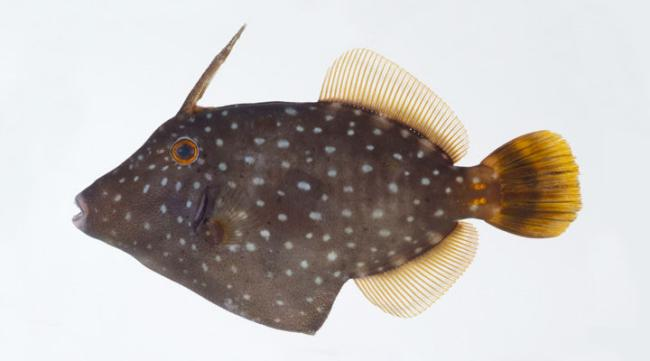fish: (72, 21, 584, 338)
